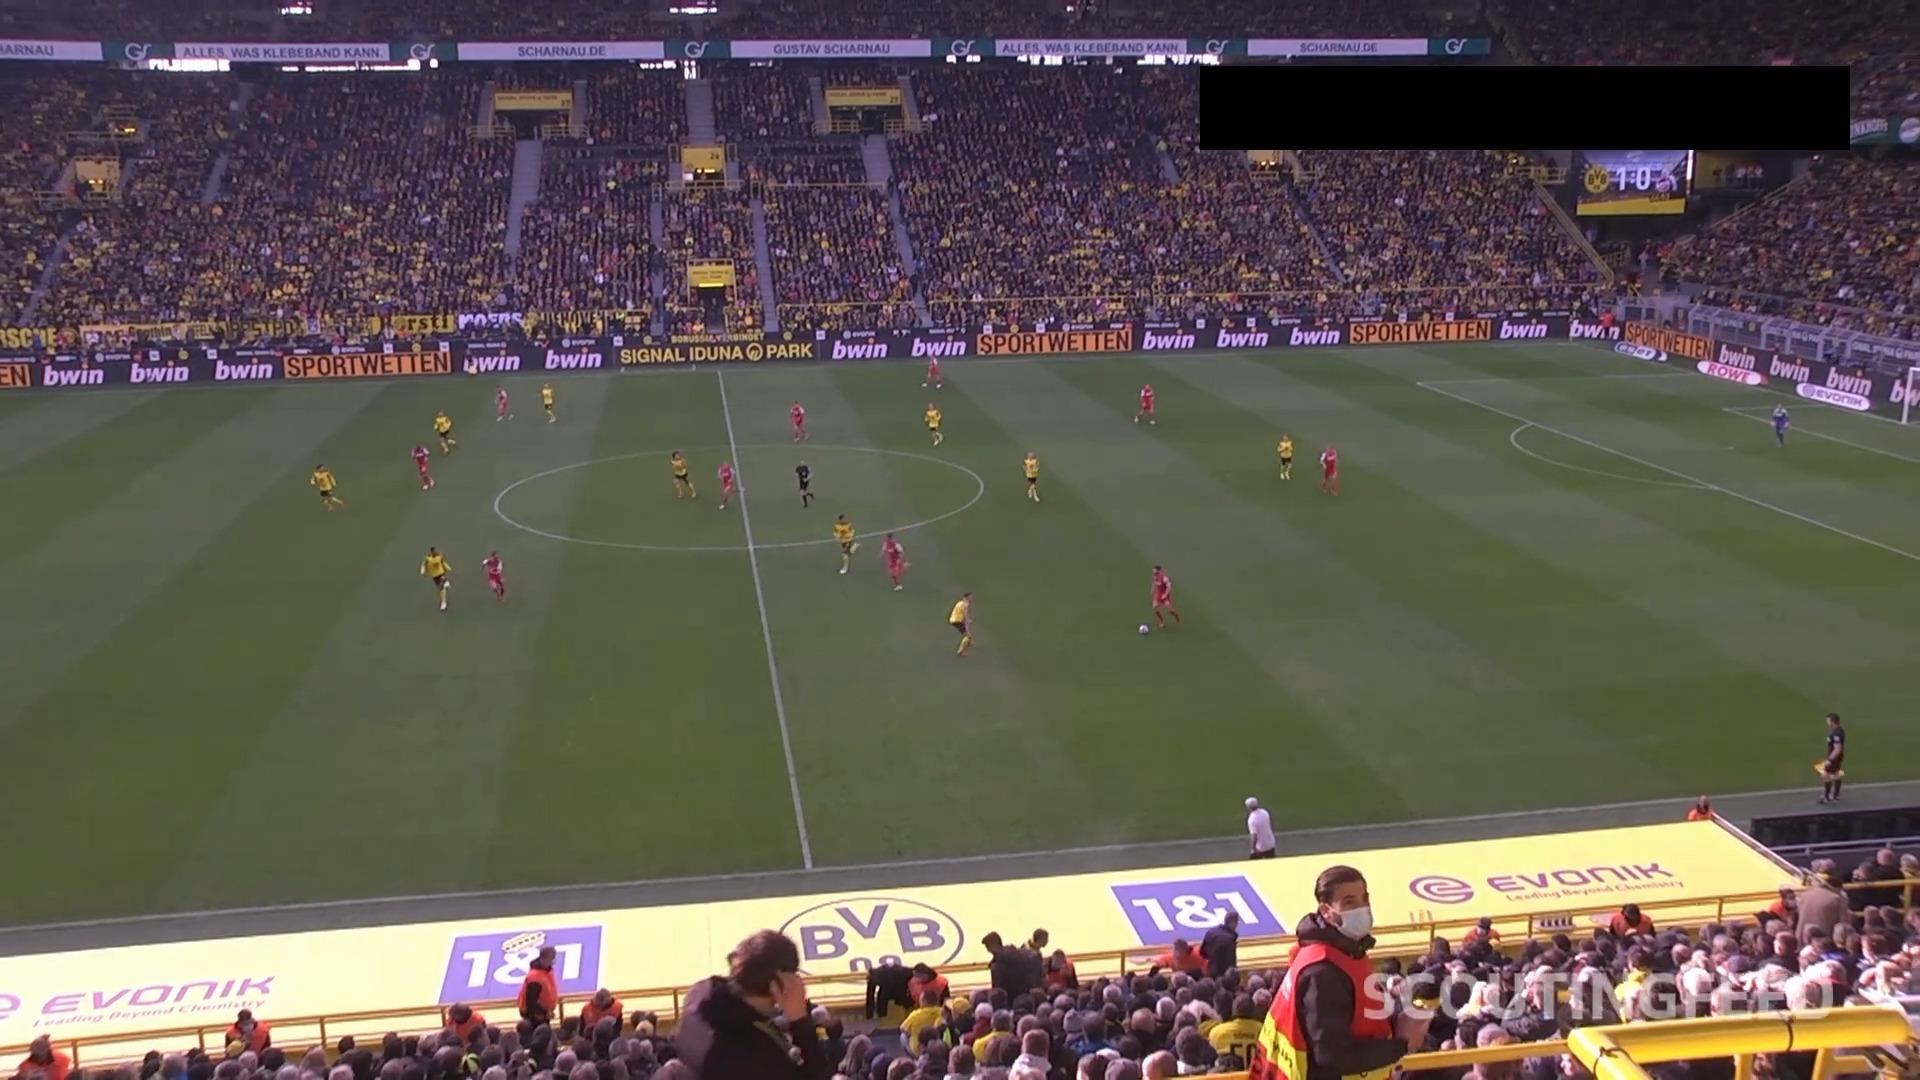ball: (1138, 624, 1148, 634)
coach: (1244, 795, 1276, 858)
fan: (1246, 864, 1411, 1078), (863, 954, 914, 1020)
player: (418, 545, 451, 610), (1149, 563, 1180, 628), (832, 512, 859, 574), (309, 462, 343, 511), (948, 591, 974, 655), (880, 532, 906, 590), (668, 449, 697, 499), (480, 550, 505, 601), (410, 443, 433, 490), (1318, 445, 1339, 496), (1021, 449, 1041, 502), (432, 410, 456, 454), (1133, 382, 1156, 425), (1769, 403, 1790, 446), (716, 460, 734, 509), (923, 402, 943, 446), (788, 399, 808, 442), (1275, 434, 1293, 480), (920, 353, 941, 389), (538, 382, 555, 423), (493, 385, 512, 421)
referee: (1815, 711, 1845, 802), (793, 460, 813, 508), (462, 346, 478, 382)
